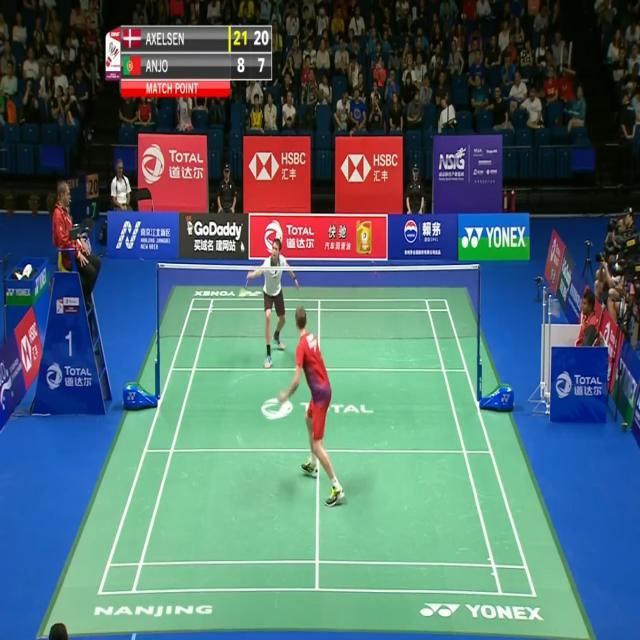Player1: (272, 297, 348, 515)
Player2: (242, 228, 304, 380)
